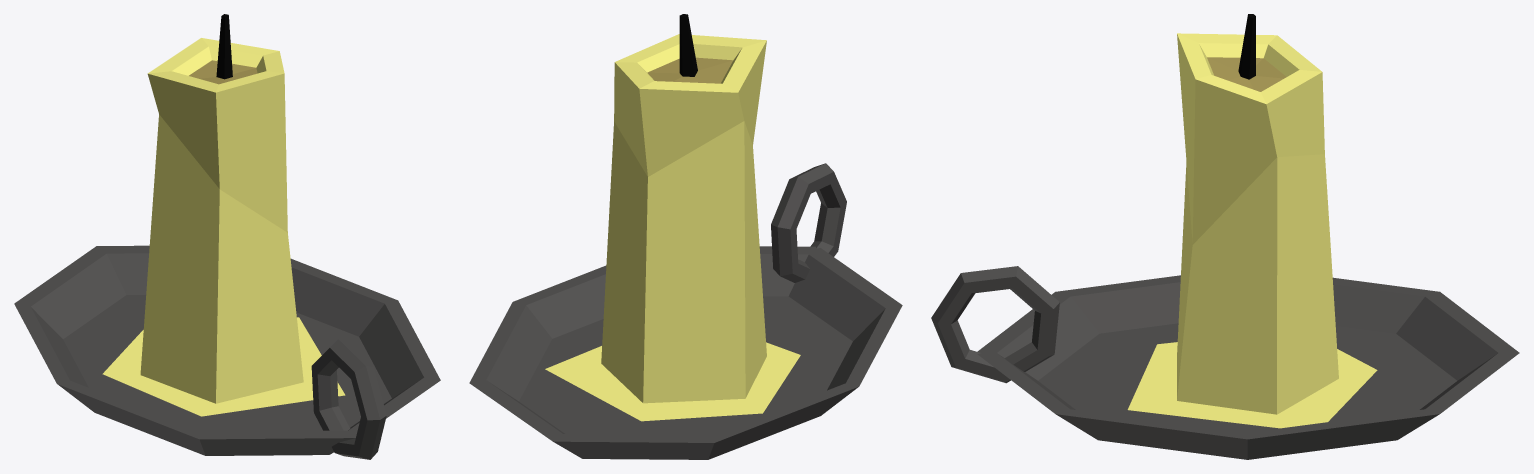
File: candle_with_bowl.fbx
The picture shows the model from 3 angles, left to right: view 1: azimuth 30°, elevation 25°; view 2: azimuth 150°, elevation 25°; view 3: azimuth 270°, elevation 25°; orthographic projection. The views are drawn at different scales.
Parts seen in each view (by area): view 1: Candle; view 2: Candle; view 3: Candle.
Part boxes in pixels (x1=…): Candle: x1=14, y1=14, x2=440, y2=459; Candle: x1=469, y1=14, x2=902, y2=459; Candle: x1=931, y1=14, x2=1519, y2=459.
Bounding box in the file's own units: 38.35 × 39.04 × 55.17.
